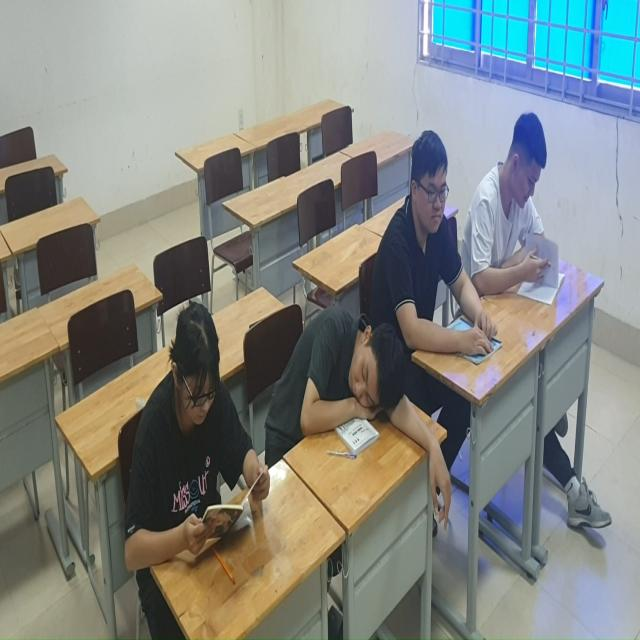read: (126, 301, 272, 567), (375, 127, 502, 363), (470, 111, 569, 309)
sleep: (274, 298, 452, 525)
